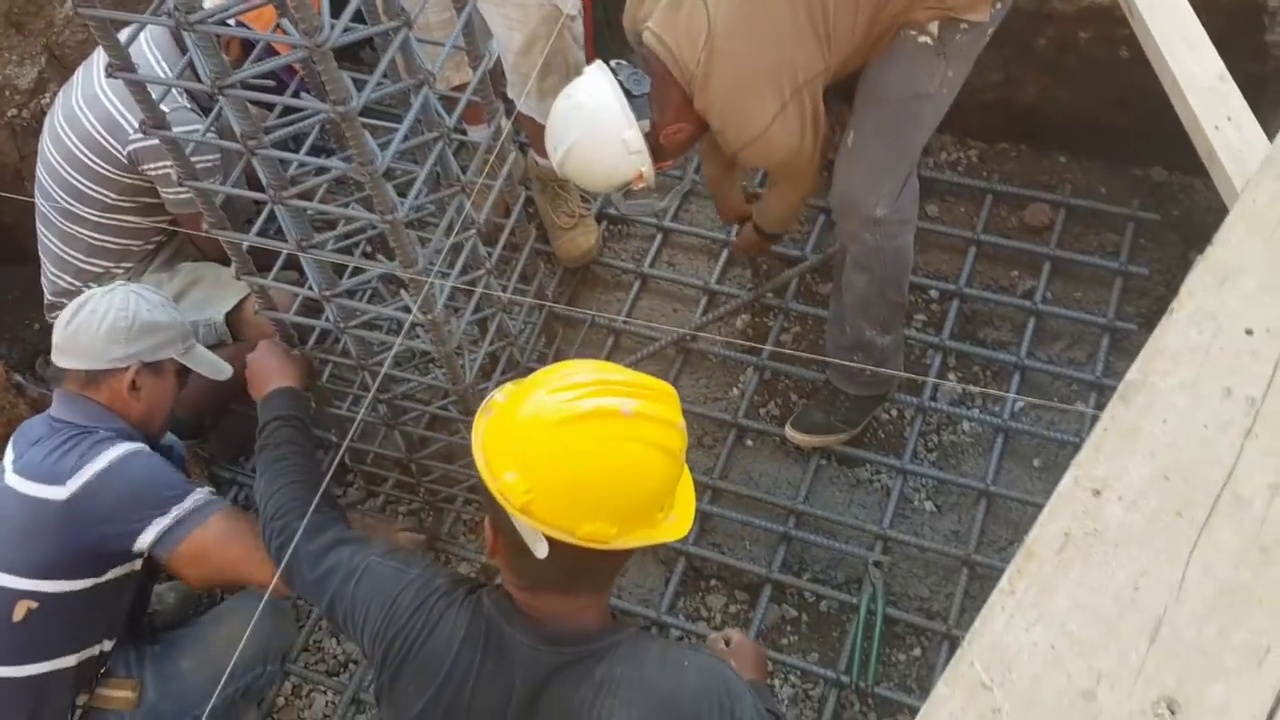helmet: (472, 358, 698, 557), (540, 57, 657, 198), (202, 0, 324, 71)
helmet-off: (45, 278, 187, 448)
helmet-on: (475, 358, 700, 647), (538, 29, 709, 200), (170, 3, 320, 108)
person: (538, 3, 1011, 452), (244, 340, 786, 707), (1, 275, 292, 719), (32, 0, 319, 346), (403, 3, 606, 273)
